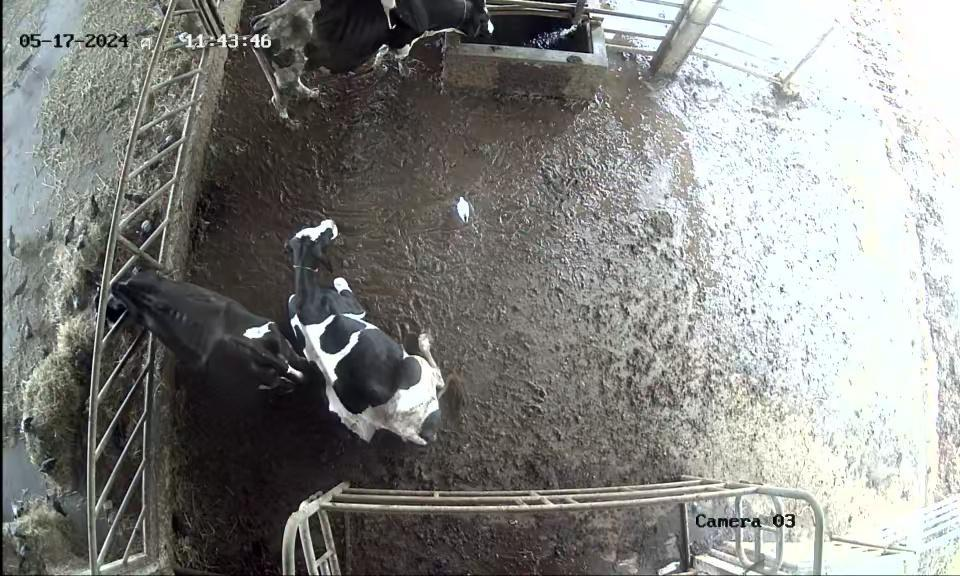drink: (430, 0, 537, 92)
eat: (72, 252, 179, 338)
lay: (279, 209, 489, 470)
